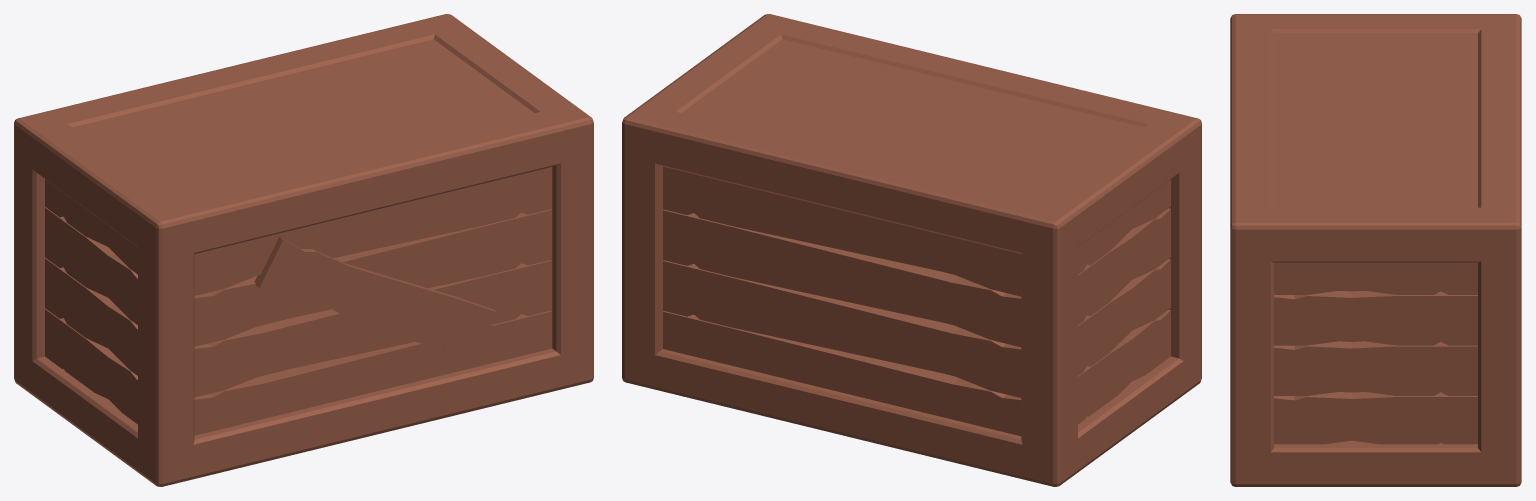
Rendered from meja crate.fbx.
3 views of the same model, side by side, from view 1: azimuth 30°, elevation 25°; view 2: azimuth 150°, elevation 25°; view 3: azimuth 270°, elevation 25° (orthographic).
Visible parts, largest first — view 1: Cube.032; view 2: Cube.032; view 3: Cube.032.
Boxes of the visible parts, box(x1,y1,x2,y2) form: Cube.032: box(14, 14, 593, 486); Cube.032: box(622, 14, 1201, 486); Cube.032: box(1230, 14, 1521, 486).
Size of the model in its own units: 127 by 73.46 by 73.46.
